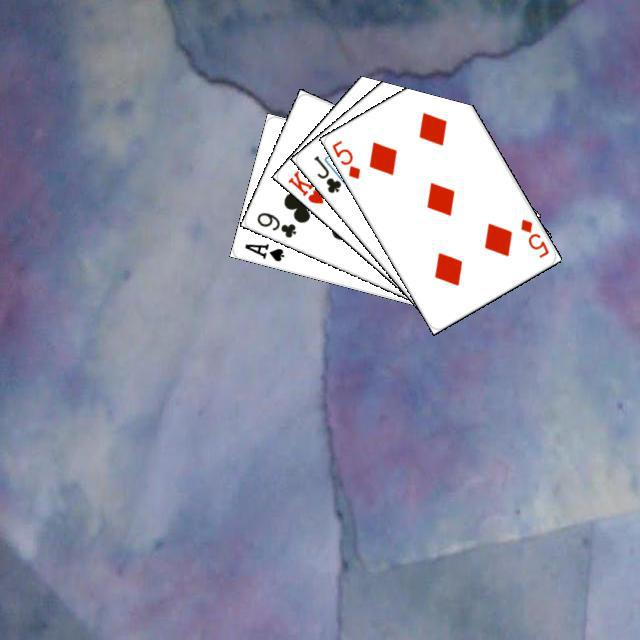5d: (515, 214, 551, 260), (327, 135, 362, 181)
9c: (252, 207, 298, 239)
As: (239, 238, 286, 263)
Jc: (309, 151, 343, 195)
Kh: (283, 165, 335, 206)
